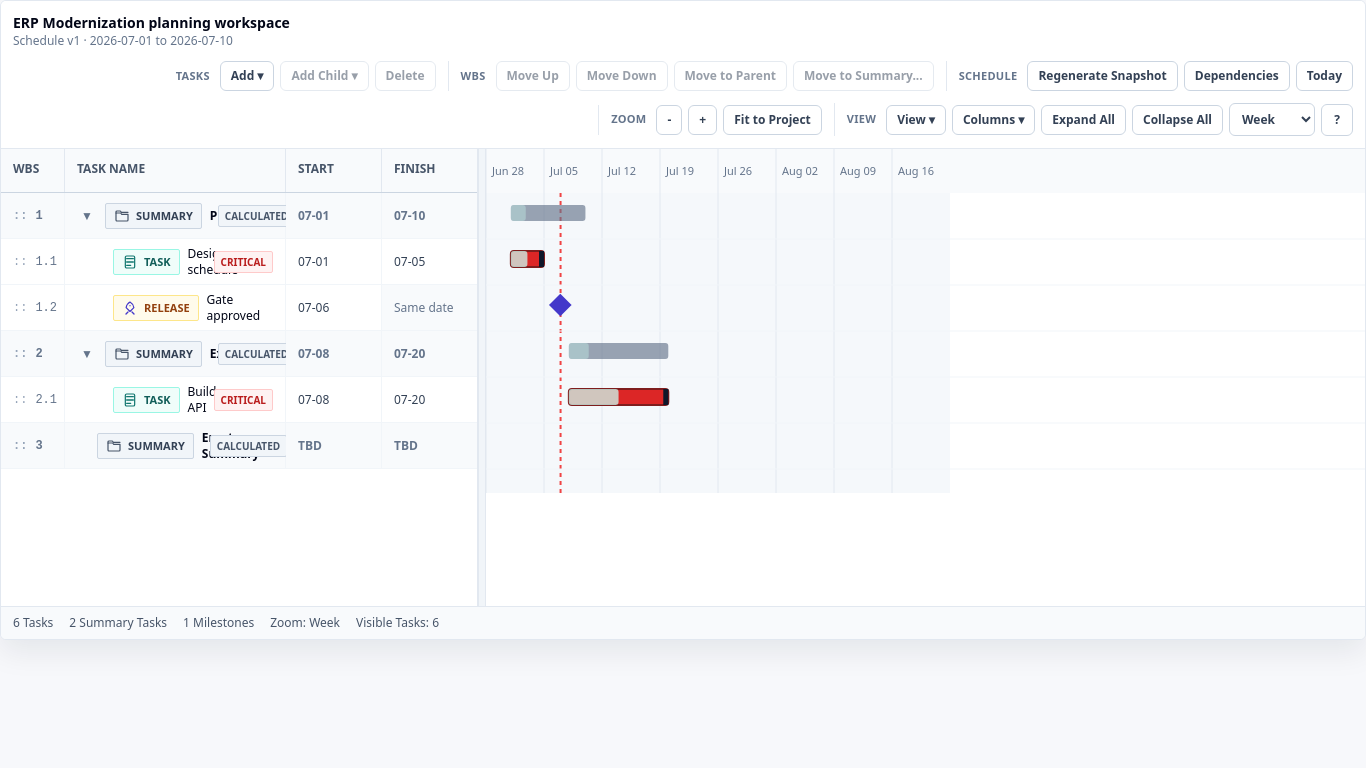
it: PlanningWorkspace › deletes a summary with children after promoting them to the parent level
Click the row named "1 Planning" at (240, 216), box [1, 193, 478, 239]
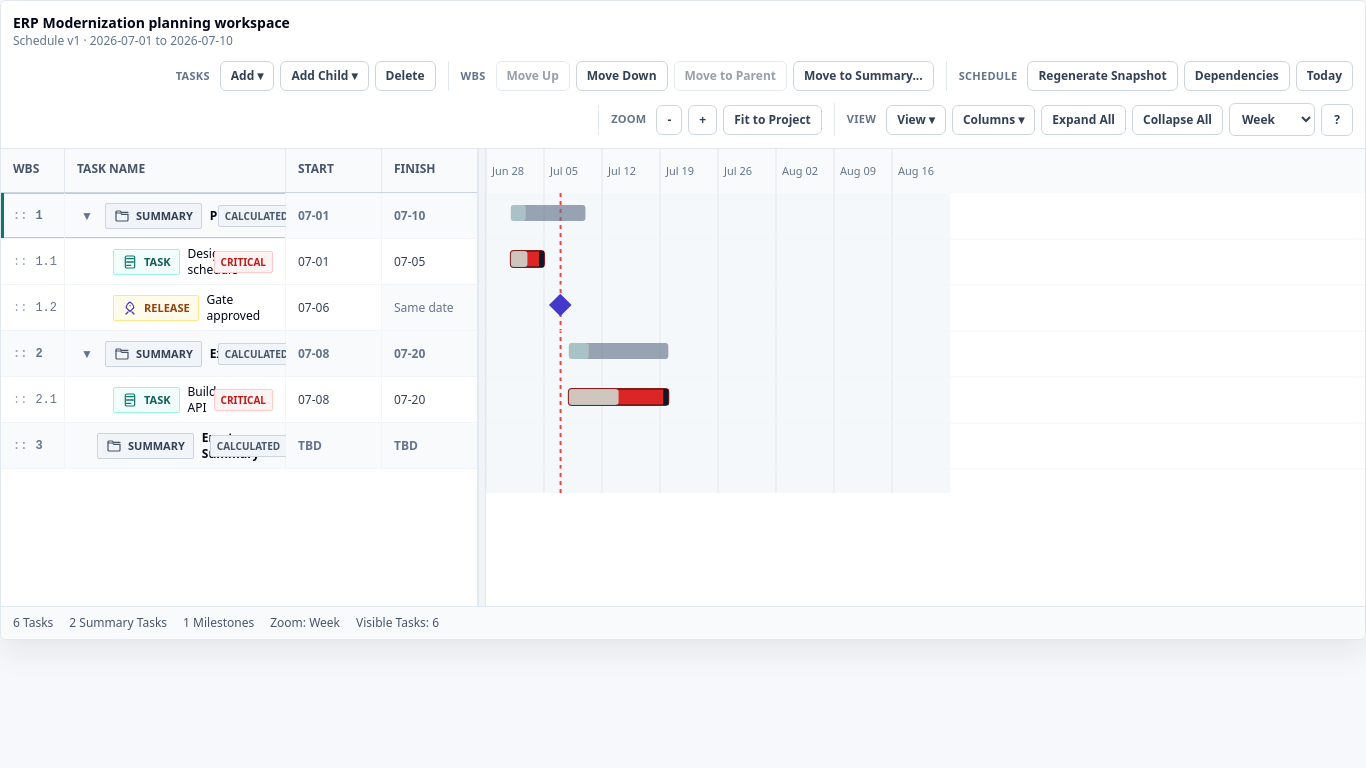
Click the button "Delete" at (405, 76), box [375, 61, 436, 91]
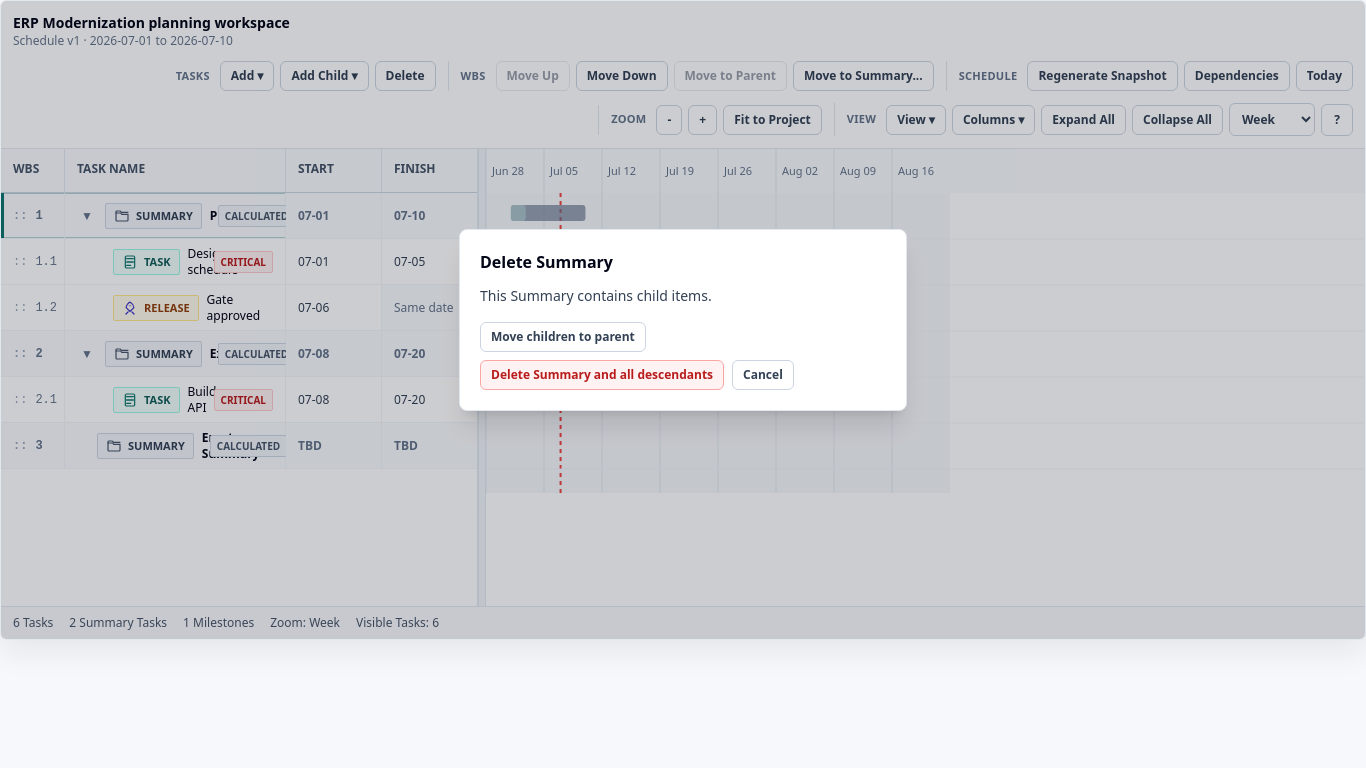
Check: the text "This Summary contains child items." is shown, box [480, 286, 712, 305]
Click the button "Move children to parent" at (563, 337), box [480, 322, 646, 352]
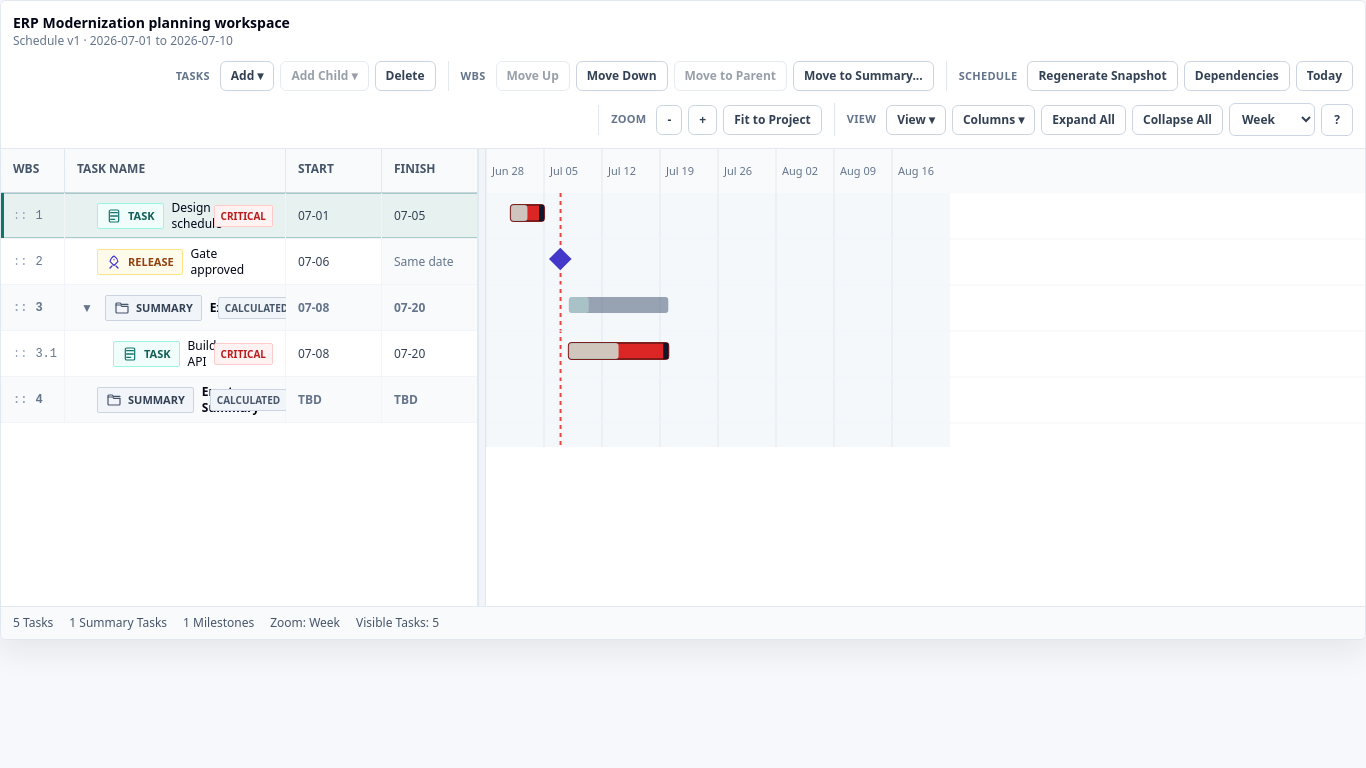
Check: the row named "1 Design schedule" is shown, box [1, 193, 478, 239]
Check: the row named "3 Execution" is shown, box [1, 285, 478, 331]
